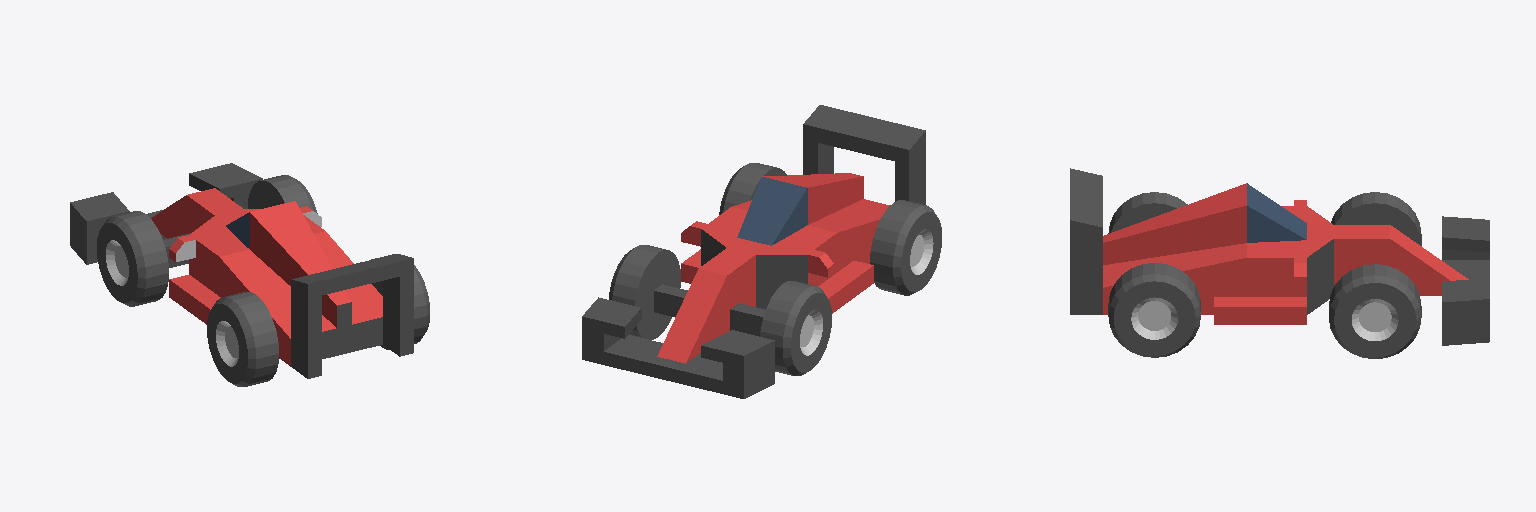
The model's file is carFormula.obj.
3 views of the same model, side by side, from view 1: azimuth 30°, elevation 25°; view 2: azimuth 150°, elevation 25°; view 3: azimuth 270°, elevation 25° (orthographic).
Visible parts, largest first — view 1: body 2, wheelFrontLeft 2, wheelBackLeft 2, wheelFrontRight 2, wheelBackRight 2; view 2: body 2, wheelBackLeft 2, wheelFrontLeft 2, wheelFrontRight 2, wheelBackRight 2; view 3: body 2, wheelBackRight 2, wheelFrontRight 2, wheelFrontLeft 2, wheelBackLeft 2.
Boxes of the visible parts, <box> form: body 2: <box>70,163,413,378</box>; wheelFrontLeft 2: <box>97,211,168,306</box>; wheelBackLeft 2: <box>207,292,278,386</box>; wheelFrontRight 2: <box>248,175,317,213</box>; wheelBackRight 2: <box>371,254,429,349</box>; body 2: <box>582,105,925,398</box>; wheelBackLeft 2: <box>870,200,941,295</box>; wheelFrontLeft 2: <box>760,281,831,375</box>; wheelFrontRight 2: <box>609,245,680,339</box>; wheelBackRight 2: <box>719,163,786,214</box>; body 2: <box>1070,168,1489,345</box>; wheelBackRight 2: <box>1108,263,1200,357</box>; wheelFrontRight 2: <box>1329,264,1421,358</box>; wheelFrontLeft 2: <box>1331,192,1421,245</box>; wheelBackLeft 2: <box>1108,192,1187,233</box>.
Bounding box in the file's own units: 10.16 × 6.58 × 20.25.